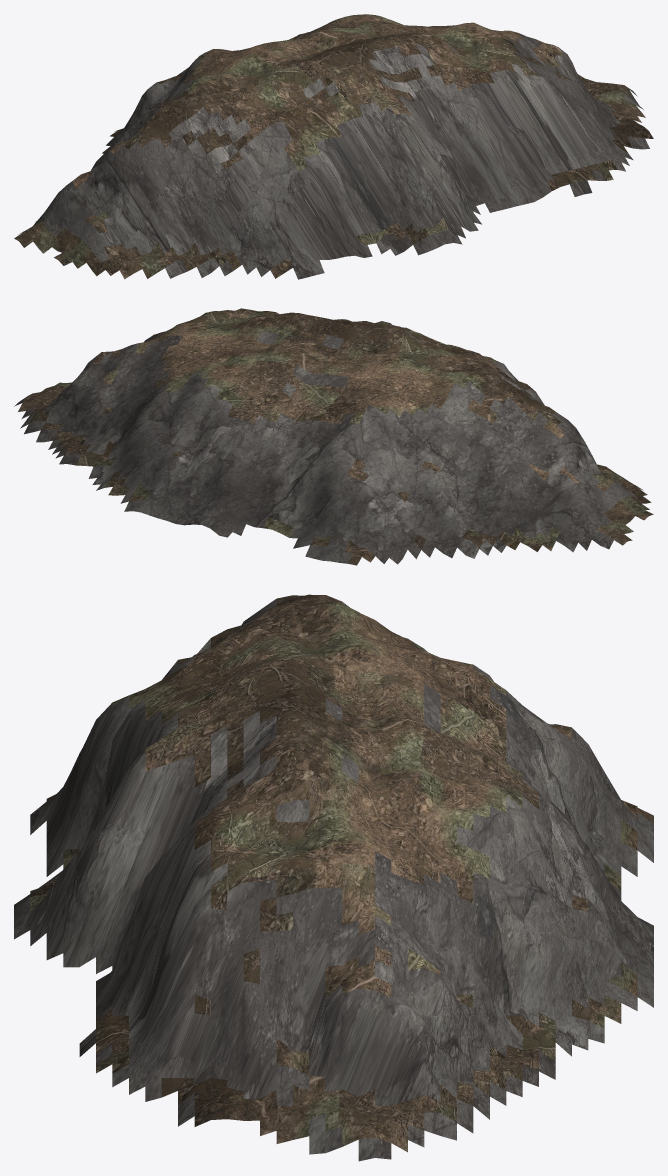
Rendered from border_shelf_c_v5_autumn.glb.
3 renders of one model, top to bottom at view 1: azimuth 30°, elevation 25°; view 2: azimuth 150°, elevation 25°; view 3: azimuth 270°, elevation 25°, orthographic. The views are drawn at different scales.
Visible parts, largest first — view 1: border_shelf_c; view 2: border_shelf_c; view 3: border_shelf_c.
Part boxes in pixels (left/top/right/bottom): border_shelf_c: left=14, top=14, right=653, bottom=279; border_shelf_c: left=14, top=308, right=653, bottom=565; border_shelf_c: left=14, top=594, right=653, bottom=1161.
Bounding box in the file's own units: 1.06 × 0.2282 × 0.5909.
2 materials, 2 textured.
